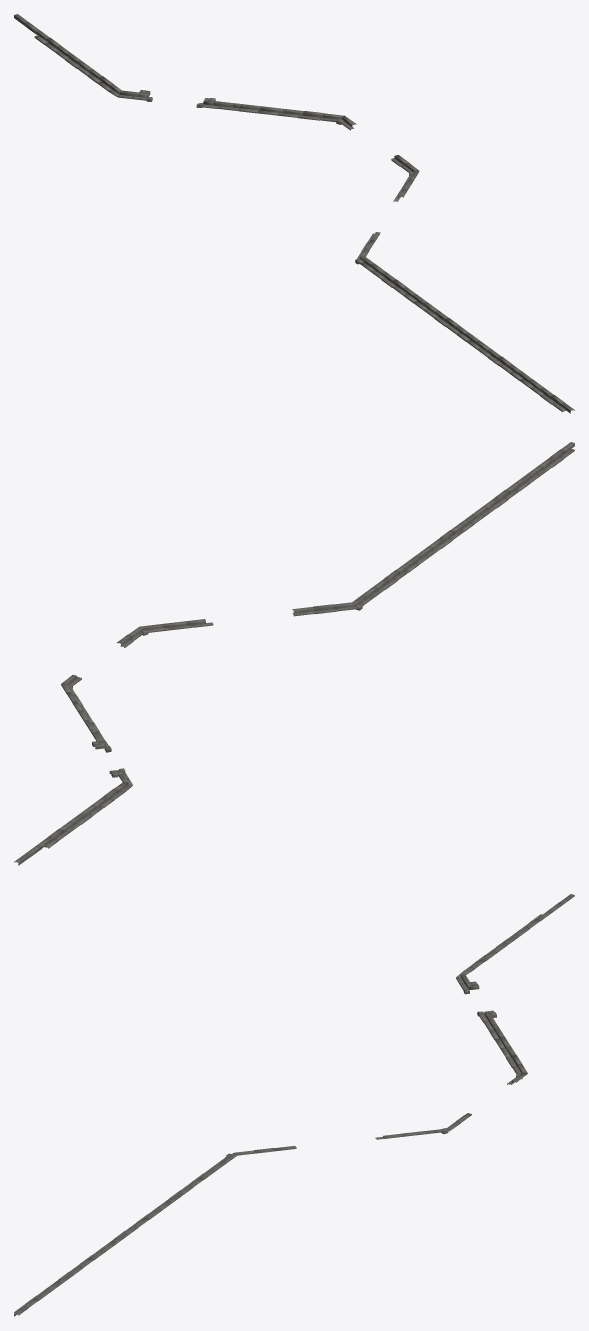
The model's file is SM_ENV_LKNVLD_Ground_Right_SideTrimOuter_01.FBX.
The picture shows the model from 3 angles, top to bottom: view 1: azimuth 30°, elevation 25°; view 2: azimuth 150°, elevation 25°; view 3: azimuth 330°, elevation 25°; orthographic projection. The views are drawn at different scales.
Visible parts, largest first — view 1: SM_ENV_LKNVLD_Ground_Right_SideTrimOuter_01; view 2: SM_ENV_LKNVLD_Ground_Right_SideTrimOuter_01; view 3: SM_ENV_LKNVLD_Ground_Right_SideTrimOuter_01.
Boxes of the visible parts, box(x1,y1,x2,y2) form: SM_ENV_LKNVLD_Ground_Right_SideTrimOuter_01: box(14, 14, 574, 413); SM_ENV_LKNVLD_Ground_Right_SideTrimOuter_01: box(14, 442, 574, 865); SM_ENV_LKNVLD_Ground_Right_SideTrimOuter_01: box(14, 894, 574, 1316).
Bounding box in the file's own units: 1664 × 59.32 × 10498.
